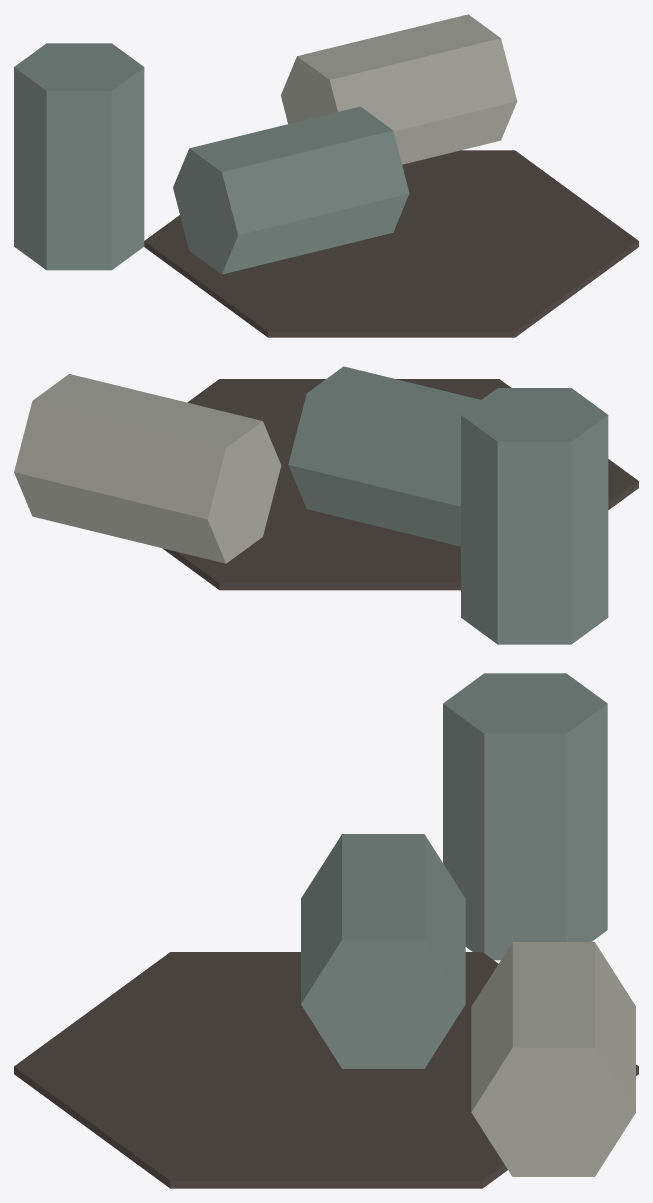
The model's file is SM_Bidones_v4_Volcados_LOD1.fbx.
3 renders of one model, top to bottom at view 1: azimuth 30°, elevation 25°; view 2: azimuth 150°, elevation 25°; view 3: azimuth 270°, elevation 25°, orthographic. The views are drawn at different scales.
Parts seen in each view (by area): view 1: SM_sagunto_vivo_v4_LOD1; view 2: SM_sagunto_vivo_v4_LOD1; view 3: SM_sagunto_vivo_v4_LOD1.
Boxes of the visible parts, <box> form: SM_sagunto_vivo_v4_LOD1: <box>14,14,638,337</box>; SM_sagunto_vivo_v4_LOD1: <box>14,366,638,644</box>; SM_sagunto_vivo_v4_LOD1: <box>14,673,638,1188</box>.
Size of the model in its own units: 2.4 by 0.88 by 2.2.
